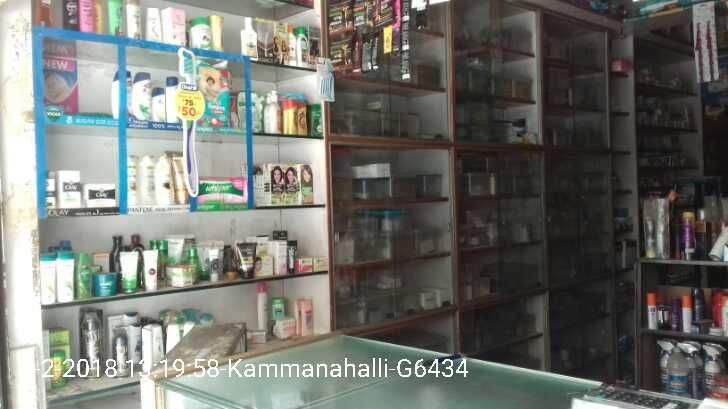beauty: (129, 69, 149, 121), (58, 168, 82, 209), (170, 153, 189, 203), (88, 182, 118, 208), (166, 75, 180, 125), (151, 86, 166, 122)
pharmacy: (195, 55, 232, 125), (196, 178, 250, 205)
